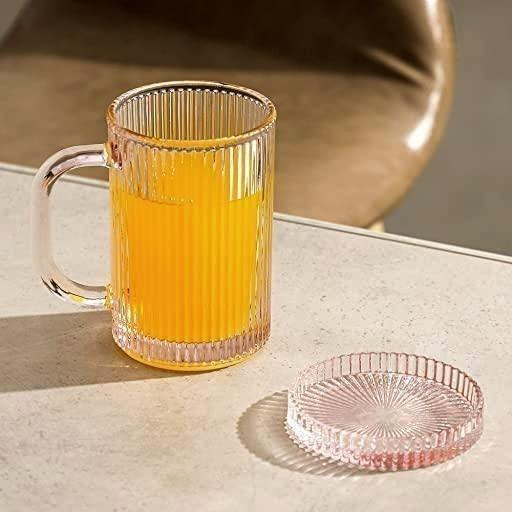glass-mug: (21, 77, 279, 376)
